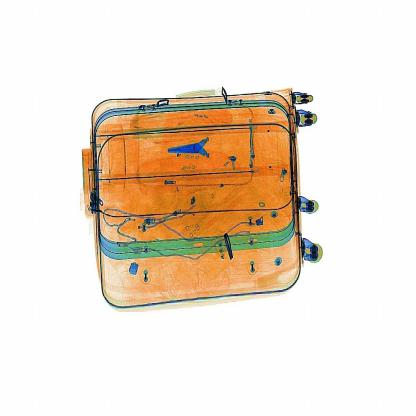gun: (167, 116, 231, 166)
